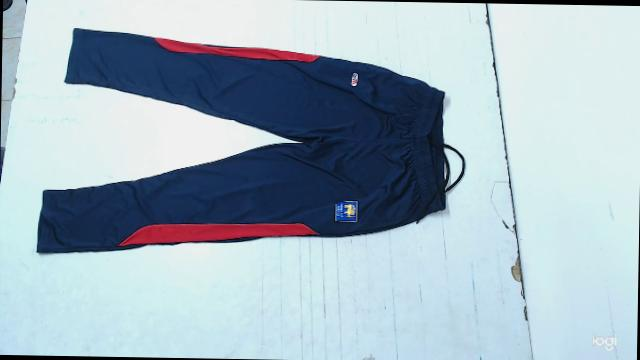new-garment: (37, 28, 461, 252)
